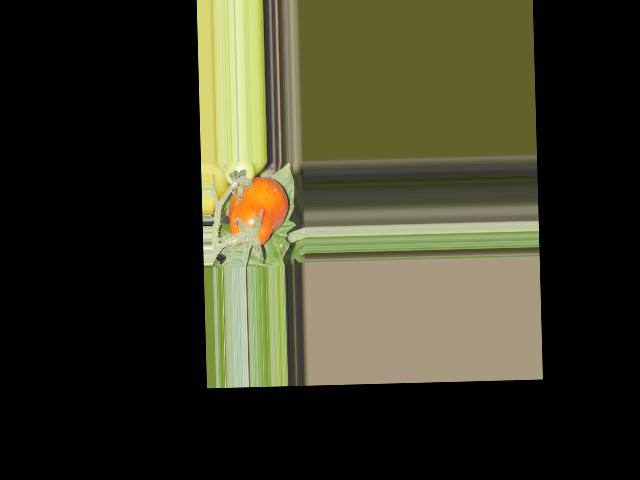tomato: (228, 176, 289, 247)
